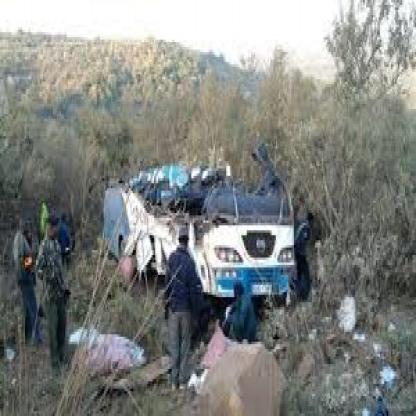accident: (94, 154, 321, 326)
